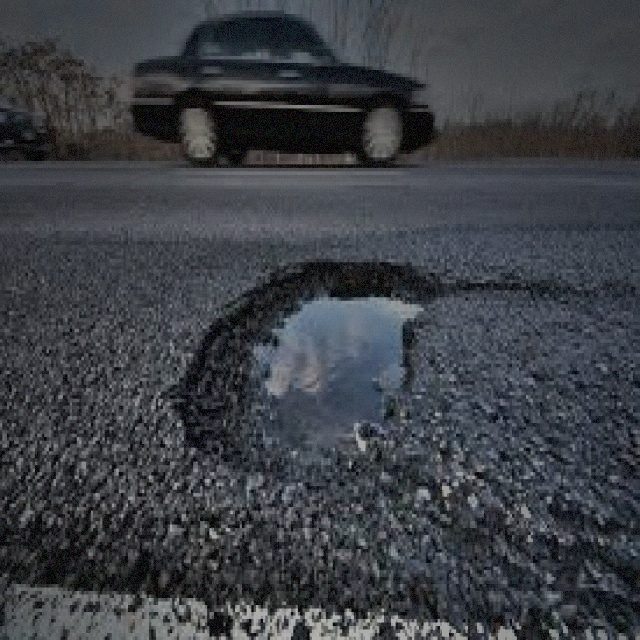pothole: (179, 248, 433, 476)
